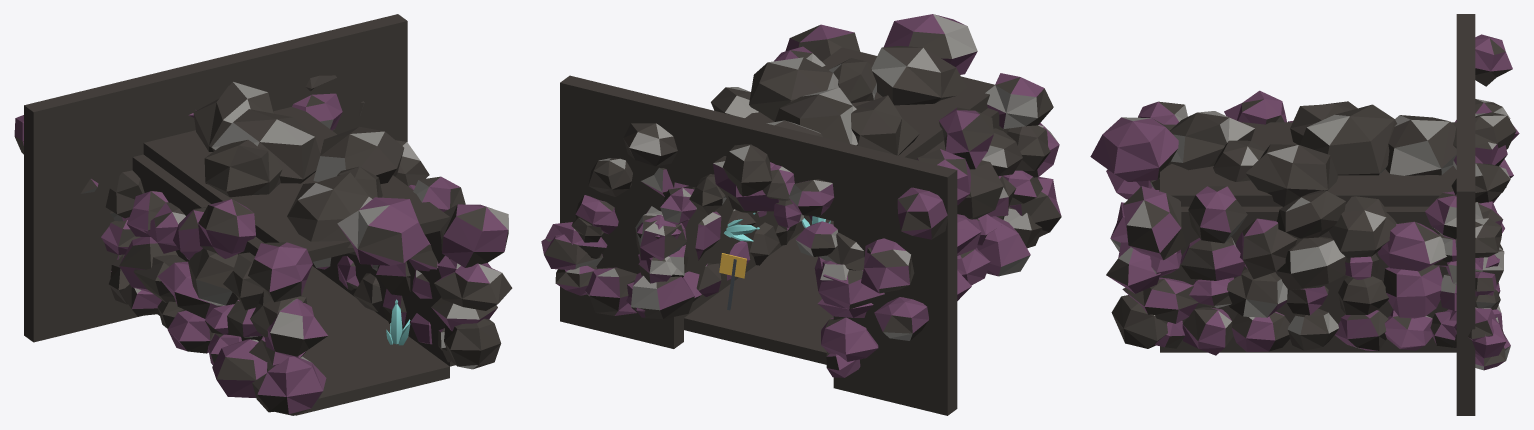
File: Cave_Crystal_Entry.fbx
The picture shows the model from 3 angles, left to right: view 1: azimuth 30°, elevation 25°; view 2: azimuth 150°, elevation 25°; view 3: azimuth 270°, elevation 25°; orthographic projection. The views are drawn at different scales.
Visible parts, largest first — view 1: Decor, Plate1, Floor1, Plate2, Ceiling1, Plate3, Wall1, Wall2; view 2: Decor, Plate1, Plate2, Floor1, Plate3, Ceiling1, Wall1; view 3: Decor, Ceiling1, Plate2, Wall1, Plate3, Floor1, Plate1.
Part boxes in pixels (<box>): Decor: <box>14,75,512,415</box>; Plate1: <box>24,78,143,342</box>; Floor1: <box>158,266,449,415</box>; Plate2: <box>288,14,407,141</box>; Ceiling1: <box>143,107,449,261</box>; Plate3: <box>134,41,297,142</box>; Wall1: <box>312,231,455,366</box>; Wall2: <box>132,154,263,341</box>; Decor: <box>541,14,1061,377</box>; Plate1: <box>833,142,957,415</box>; Plate2: <box>560,75,683,348</box>; Floor1: <box>684,219,833,364</box>; Plate3: <box>674,103,842,220</box>; Ceiling1: <box>745,47,994,159</box>; Wall1: <box>684,187,811,317</box>; Decor: <box>1090,34,1519,370</box>; Ceiling1: <box>1160,122,1456,206</box>; Plate2: <box>1456,139,1475,415</box>; Wall1: <box>1160,206,1448,346</box>; Plate3: <box>1456,66,1475,139</box>; Floor1: <box>1160,346,1456,352</box>; Plate1: <box>1456,14,1475,66</box>.
Bounding box in the file's own units: 35.18 × 20 × 34.69.
